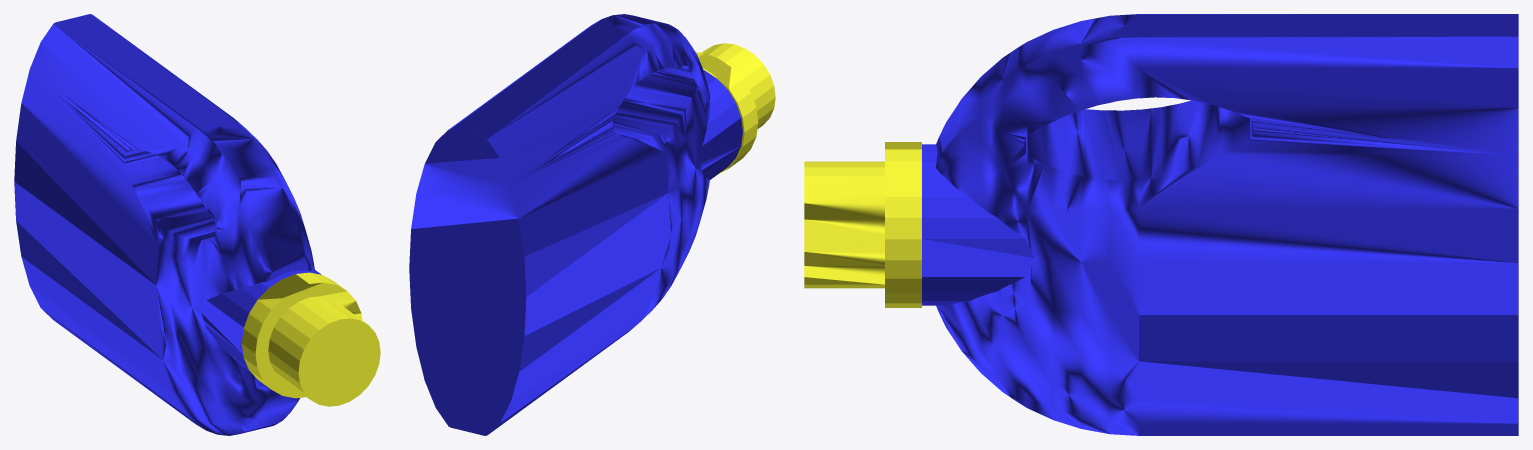
Rendered from model_align.obj.
The picture shows the model from 3 angles, left to right: view 1: azimuth 30°, elevation 25°; view 2: azimuth 150°, elevation 25°; view 3: azimuth 270°, elevation 25°; orthographic projection. The views are drawn at different scales.
Size of the model in its own units: 0.0391 by 0.0953 by 0.1547.
